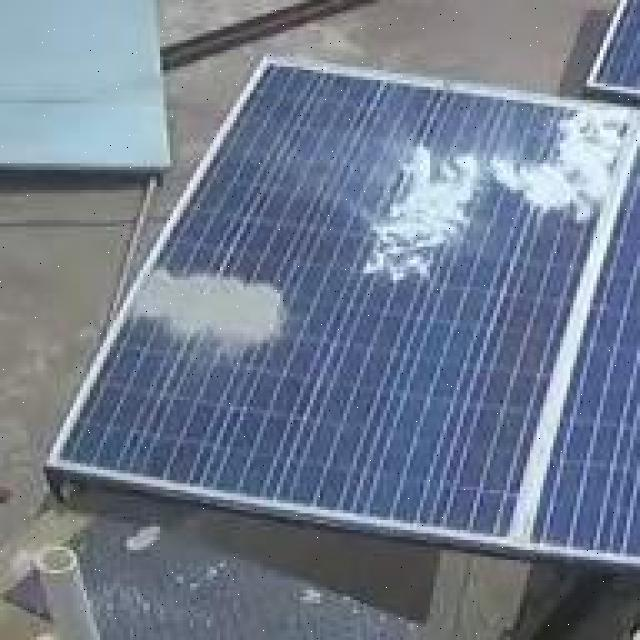Anomaly Solar Panel: (55, 0, 633, 588)
Snow: (354, 107, 631, 288), (124, 260, 293, 362)
